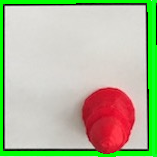Red Bishop: (78, 85, 136, 154)
